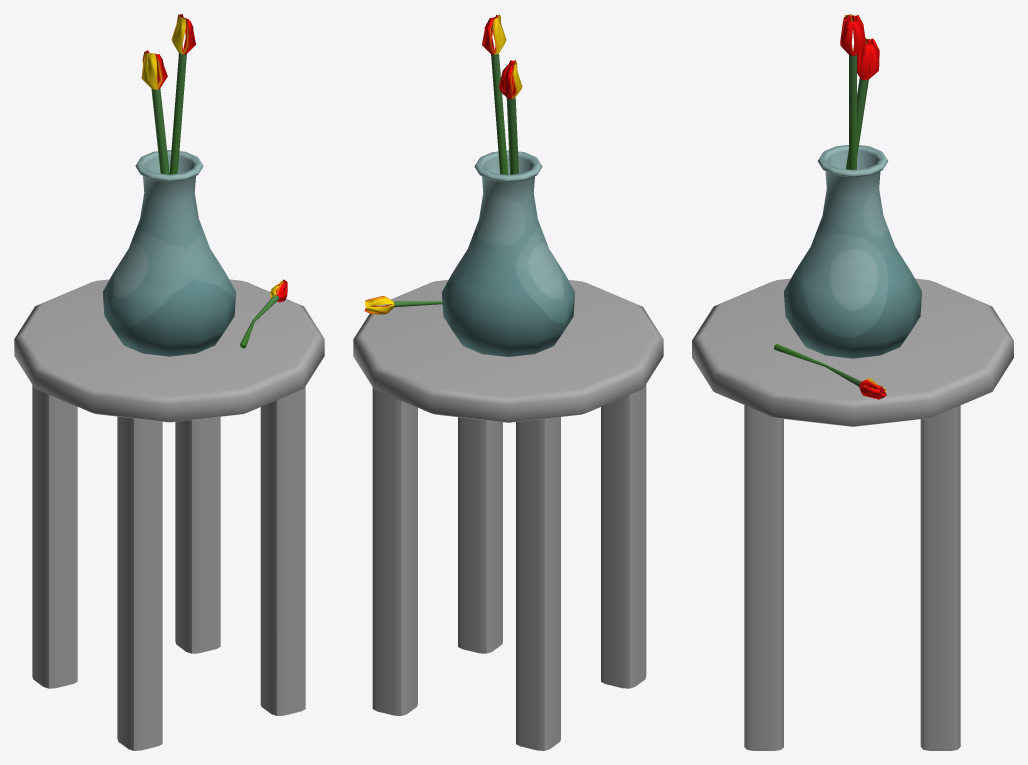
File: VaseOnTable.fbx
The picture shows the model from 3 angles, left to right: view 1: azimuth 30°, elevation 25°; view 2: azimuth 150°, elevation 25°; view 3: azimuth 270°, elevation 25°; orthographic projection. The views are drawn at different scales.
Parts seen in each view (by area): view 1: Table, pCylinder2, pCylinder3, pCylinder4, pCylinder5; view 2: Table, pCylinder2, pCylinder3, pCylinder4, pCylinder5; view 3: Table, pCylinder2, pCylinder3, pCylinder4, pCylinder5.
Part boxes in pixels (x1,y1,x2,y2): Table: (14,279,324,750); pCylinder2: (102,150,236,356); pCylinder3: (169,14,195,174); pCylinder4: (141,50,169,174); pCylinder5: (240,279,287,348); Table: (353,280,663,750); pCylinder2: (441,150,575,356); pCylinder3: (482,14,508,174); pCylinder4: (499,60,522,174); pCylinder5: (364,296,442,314); Table: (692,278,1013,750); pCylinder2: (784,145,921,358); pCylinder3: (840,14,865,169); pCylinder4: (846,38,879,169); pCylinder5: (774,343,886,399).
Size of the model in its own units: 3.97 by 9.49 by 3.97.
